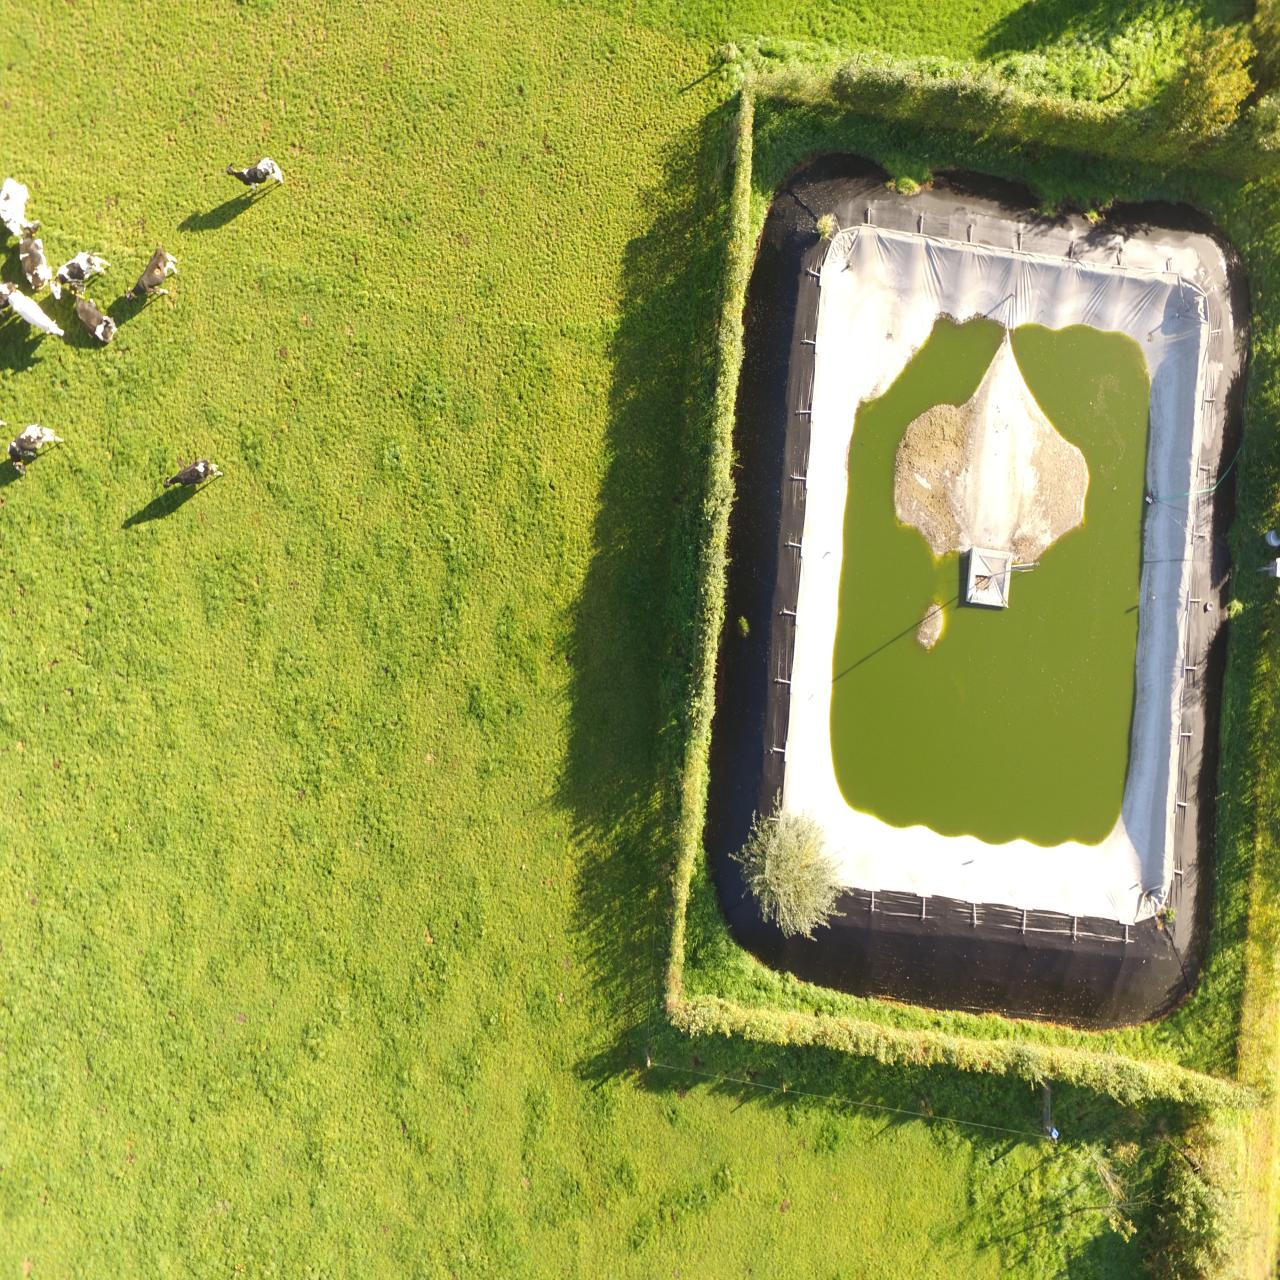cow: (125, 247, 186, 306), (4, 286, 64, 341), (50, 244, 109, 300), (0, 166, 40, 240), (19, 213, 54, 297), (11, 422, 63, 476), (70, 286, 118, 343), (225, 159, 285, 192), (163, 461, 224, 489)
